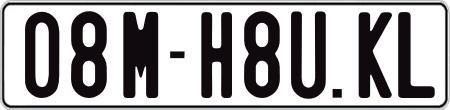0: (23, 11, 60, 103)
8: (68, 9, 108, 101), (243, 9, 283, 100)
H: (200, 11, 237, 98)
K: (357, 11, 391, 99)
L: (398, 12, 434, 102)
M: (122, 12, 158, 101)
U: (288, 11, 325, 104)
